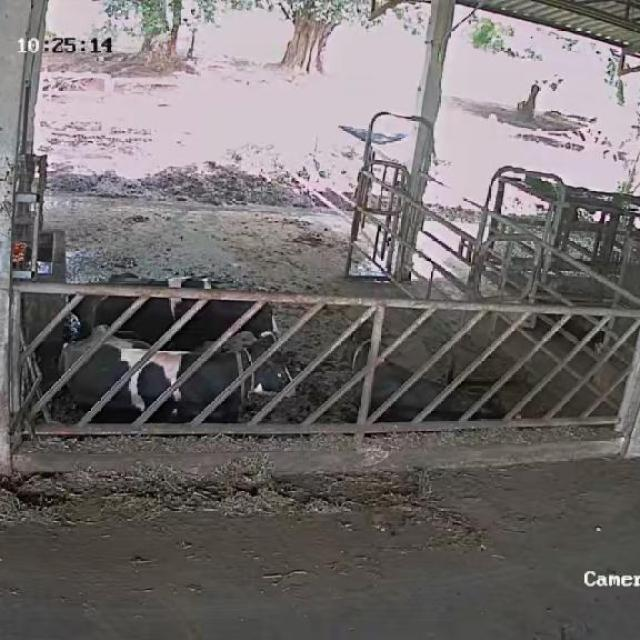lying down: (48, 335, 300, 427), (342, 316, 514, 425), (70, 267, 292, 339)
